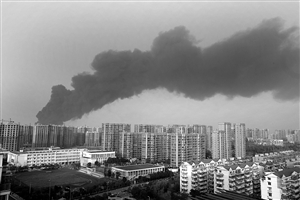smoke: (44, 30, 294, 98)
